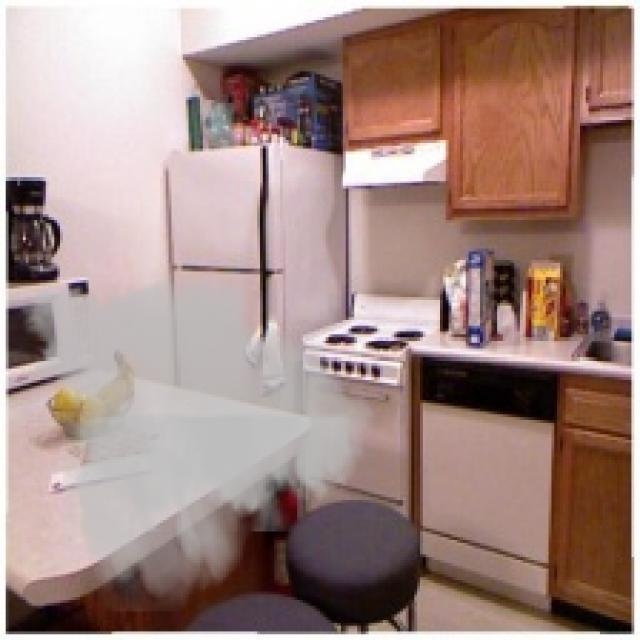smoke: (6, 263, 386, 611)
